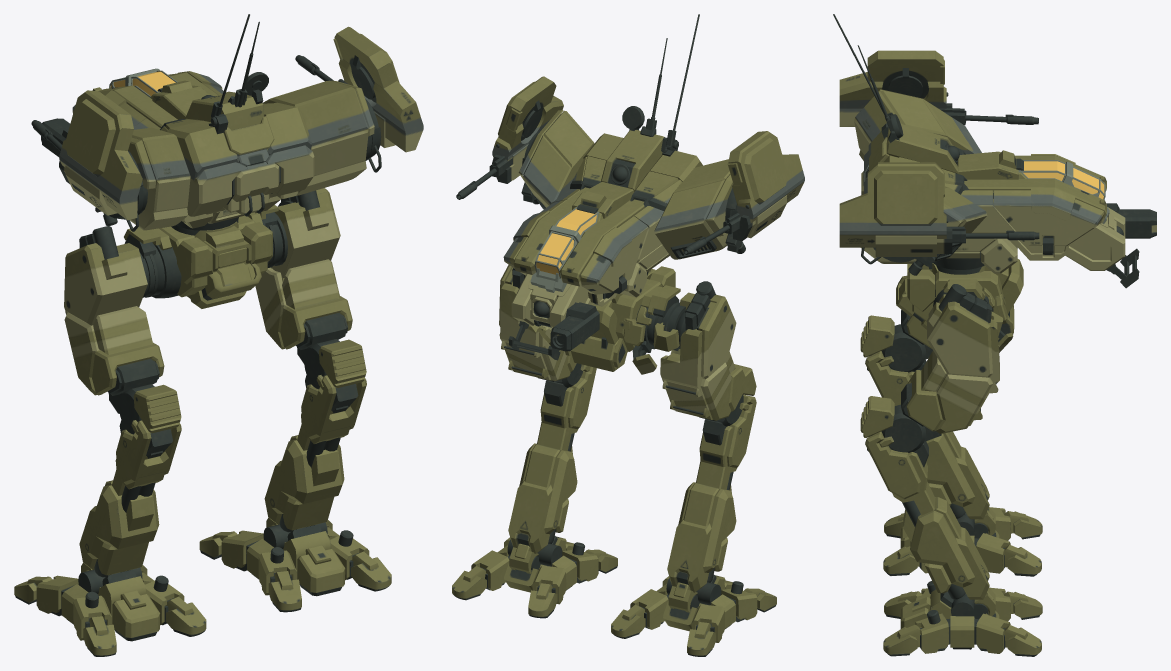
File: Locust.glb
3 views of the same model, side by side, from view 1: azimuth 30°, elevation 25°; view 2: azimuth 150°, elevation 25°; view 3: azimuth 270°, elevation 25° (orthographic). The views are drawn at different scales.
Visible parts, largest first — view 1: CenterTorso_CoreAndPelvis, LeftLeg_Thigh, RightLeg_Shin, LeftLeg_Shin, RightLeg_Thigh, LeftLeg_Foot, RightLeg_Foot, LeftArm_ShoulderAndUpperarm, RightTorso_TorsoShell, RightArm_ShoulderAndUpperarm, LeftTorso_TorsoShell, LeftLeg_Hip (+3 smaller); view 2: CenterTorso_CoreAndPelvis, LeftLeg_Shin, RightLeg_Shin, LeftLeg_Thigh, RightLeg_Foot, LeftLeg_Foot, LeftArm_ShoulderAndUpperarm, LeftTorso_TorsoShell, RightTorso_TorsoShell, RightArm_ShoulderAndUpperarm, RightLeg_Thigh, CenterTorso_Weapon0 (+5 smaller); view 3: CenterTorso_CoreAndPelvis, RightLeg_Shin, RightLeg_Thigh, RightArm_ShoulderAndUpperarm, RightLeg_Foot, LeftLeg_Shin, LeftLeg_Foot, LeftArm_ShoulderAndUpperarm, LeftTorso_TorsoShell, RightTorso_TorsoShell, Head_AmberCanopy, CenterTorso_Weapon0 (+4 smaller).
Part boxes in pixels (x1=…): CenterTorso_CoreAndPelvis: x1=72, y1=14, x2=314, y2=308; LeftLeg_Thigh: x1=64, y1=226, x2=164, y2=413; RightLeg_Shin: x1=264, y1=339, x2=366, y2=532; LeftLeg_Shin: x1=79, y1=384, x2=181, y2=577; RightLeg_Thigh: x1=255, y1=188, x2=352, y2=363; LeftLeg_Foot: x1=14, y1=562, x2=206, y2=656; RightLeg_Foot: x1=199, y1=517, x2=391, y2=612; LeftArm_ShoulderAndUpperarm: x1=59, y1=90, x2=147, y2=231; RightTorso_TorsoShell: x1=263, y1=80, x2=374, y2=195; RightArm_ShoulderAndUpperarm: x1=333, y1=26, x2=423, y2=172; LeftTorso_TorsoShell: x1=128, y1=127, x2=190, y2=230; LeftLeg_Hip: x1=139, y1=245, x2=164, y2=297; CenterTorso_CoreAndPelvis: x1=503, y1=14, x2=702, y2=374; LeftLeg_Shin: x1=667, y1=364, x2=756, y2=592; RightLeg_Shin: x1=508, y1=363, x2=596, y2=553; LeftLeg_Thigh: x1=660, y1=281, x2=746, y2=421; RightLeg_Foot: x1=452, y1=536, x2=617, y2=618; LeftLeg_Foot: x1=611, y1=574, x2=776, y2=656; LeftArm_ShoulderAndUpperarm: x1=725, y1=131, x2=804, y2=253; LeftTorso_TorsoShell: x1=654, y1=159, x2=733, y2=259; RightTorso_TorsoShell: x1=518, y1=110, x2=594, y2=209; RightArm_ShoulderAndUpperarm: x1=492, y1=76, x2=563, y2=204; RightLeg_Thigh: x1=499, y1=265, x2=576, y2=382; CenterTorso_Weapon0: x1=550, y1=302, x2=599, y2=351; CenterTorso_CoreAndPelvis: x1=833, y1=14, x2=1139, y2=352; RightLeg_Shin: x1=860, y1=396, x2=989, y2=599; RightLeg_Thigh: x1=901, y1=284, x2=999, y2=441; RightArm_ShoulderAndUpperarm: x1=839, y1=162, x2=952, y2=275; RightLeg_Foot: x1=883, y1=581, x2=1042, y2=656; LeftLeg_Shin: x1=860, y1=315, x2=989, y2=519; LeftLeg_Foot: x1=883, y1=507, x2=1042, y2=576; LeftArm_ShoulderAndUpperarm: x1=839, y1=50, x2=952, y2=126; LeftTorso_TorsoShell: x1=854, y1=89, x2=981, y2=160; RightTorso_TorsoShell: x1=861, y1=186, x2=987, y2=263; Head_AmberCanopy: x1=1023, y1=161, x2=1104, y2=199; CenterTorso_Weapon0: x1=1106, y1=203, x2=1156, y2=238.
Size of the model in its own units: 1.14 by 2.24 by 1.16.
Materials: 4 (2 with a texture image).
